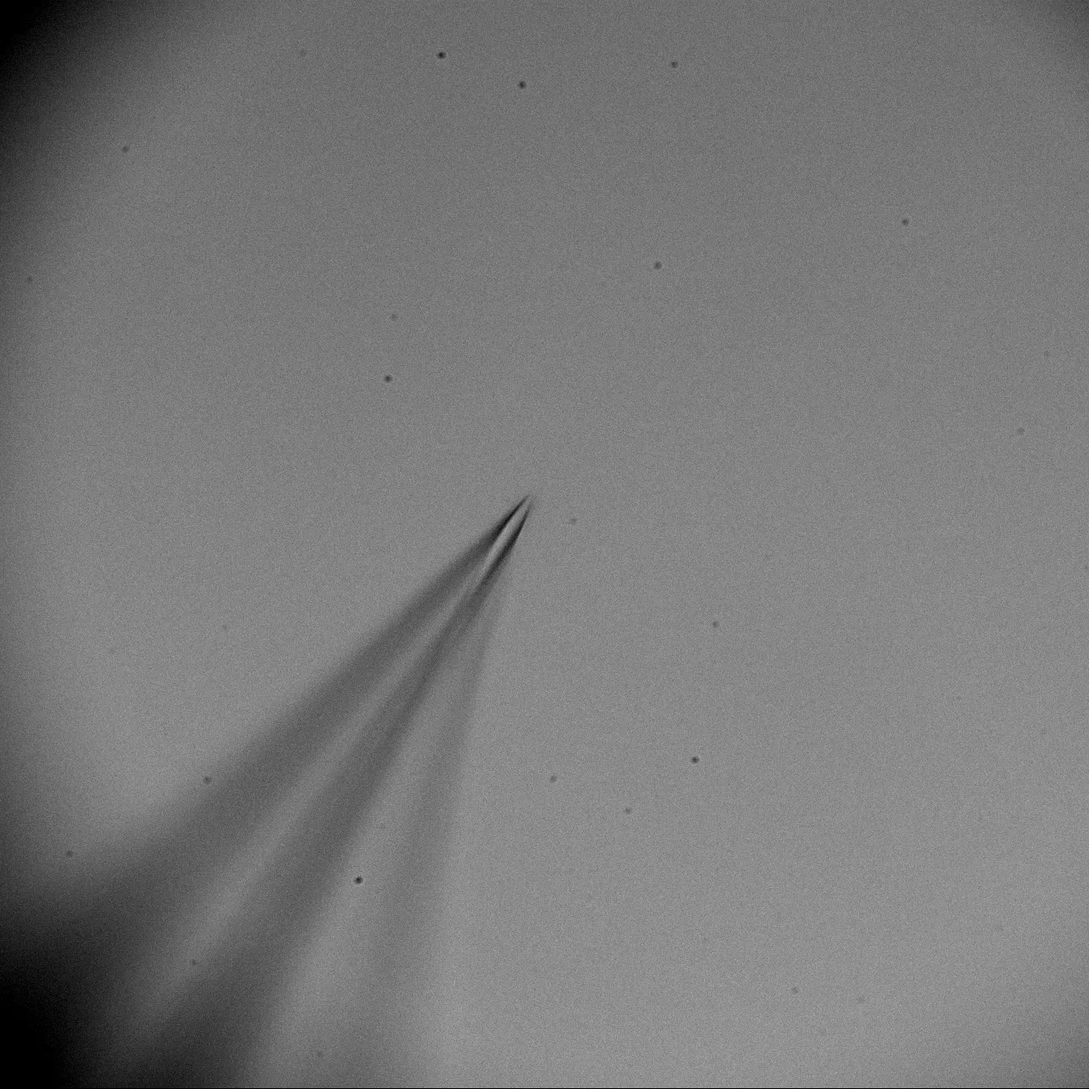tip: (398, 490, 541, 647)
